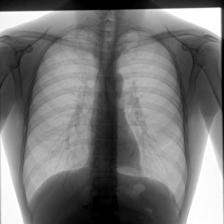tuberculosis: (18, 24, 189, 224)
